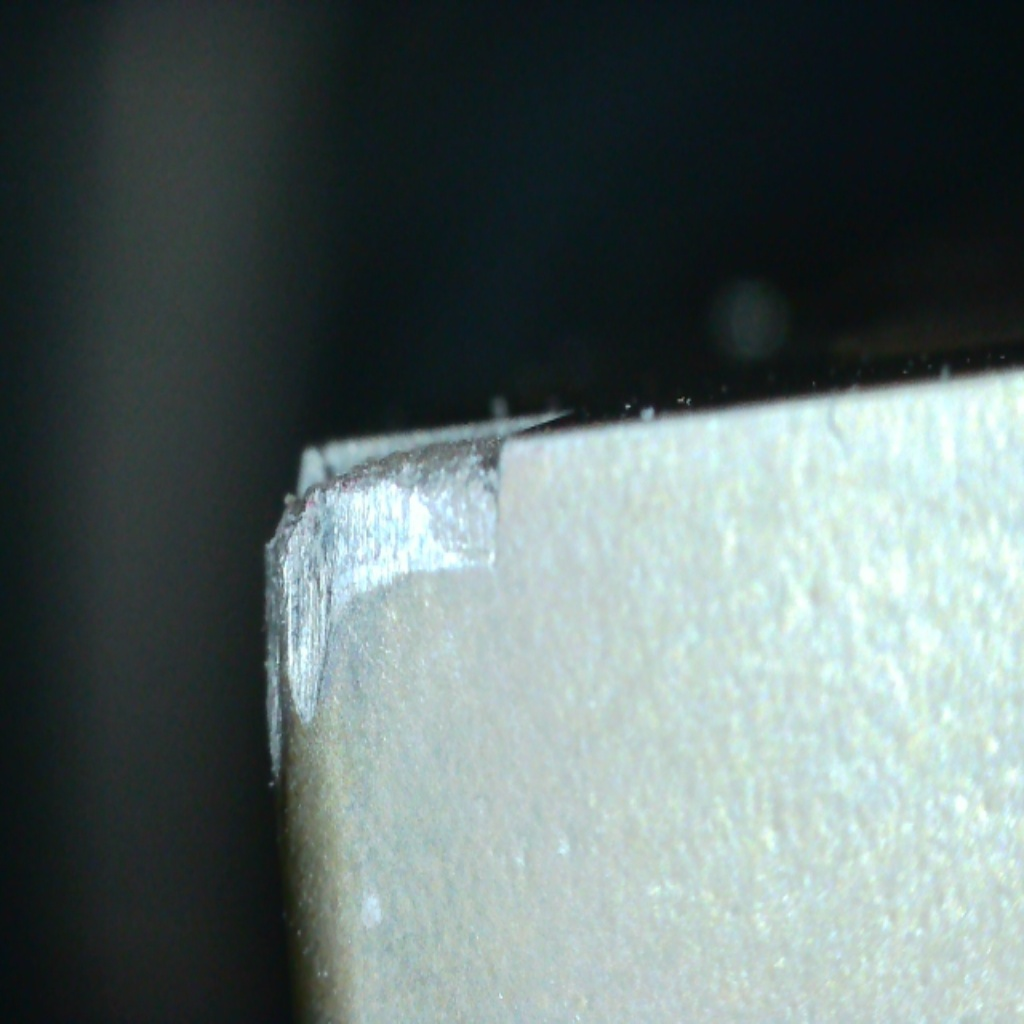flank_wear: (301, 492, 506, 595), (268, 530, 339, 804)
